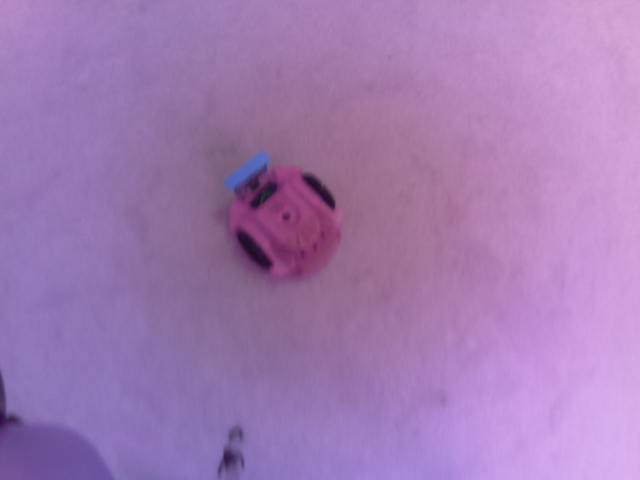board: (225, 146, 273, 192)
chassis: (219, 145, 349, 285)
